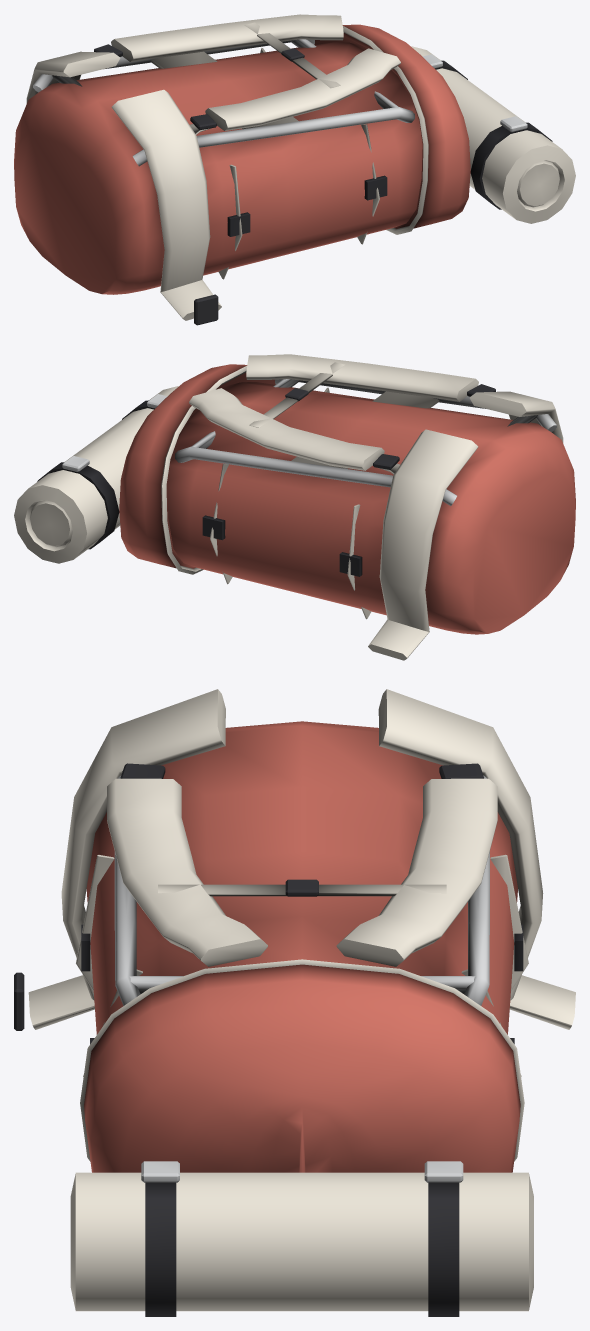
The model's file is pack_hike.glb.
The picture shows the model from 3 angles, top to bottom: view 1: azimuth 30°, elevation 25°; view 2: azimuth 150°, elevation 25°; view 3: azimuth 270°, elevation 25°; orthographic projection. The views are drawn at different scales.
Parts seen in each view (by area): view 1: PART; view 2: PART; view 3: PART.
Part boxes in pixels (left/top/right/bottom): PART: left=14, top=14, right=575, bottom=325; PART: left=14, top=354, right=575, bottom=660; PART: left=14, top=689, right=575, bottom=1316.
Bounding box in the file's own units: 0.6685 × 0.2681 × 0.4366.
